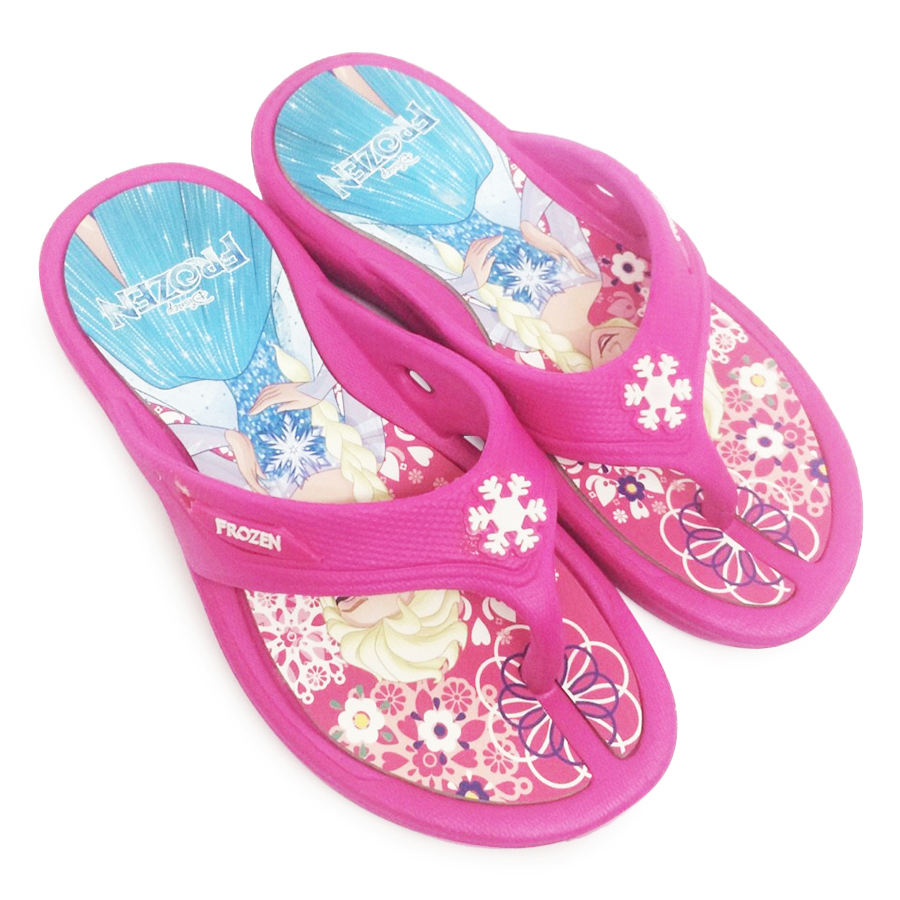Disney: (375, 143, 425, 190), (158, 282, 219, 318)
